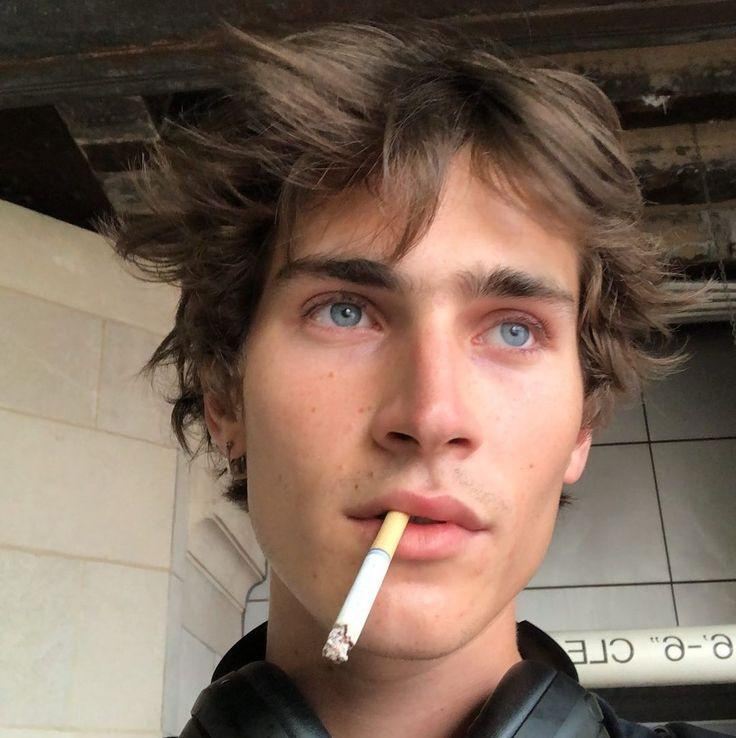cigarette: (320, 510, 411, 663)
